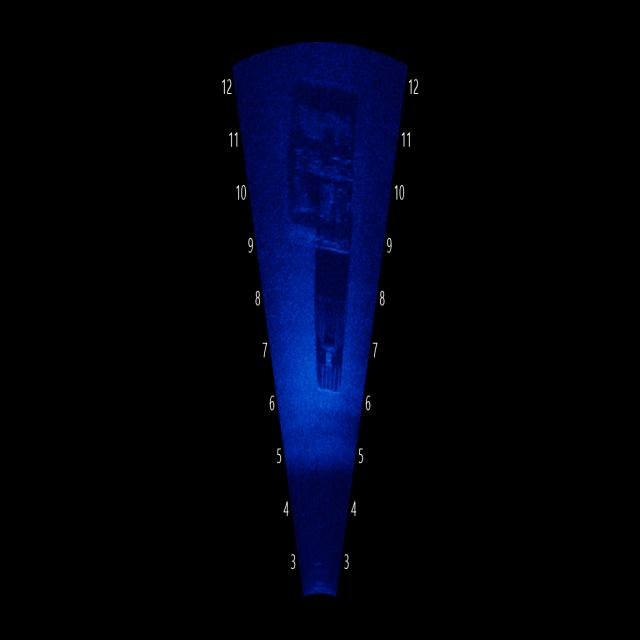square: (276, 79, 372, 269), (302, 246, 355, 413)
